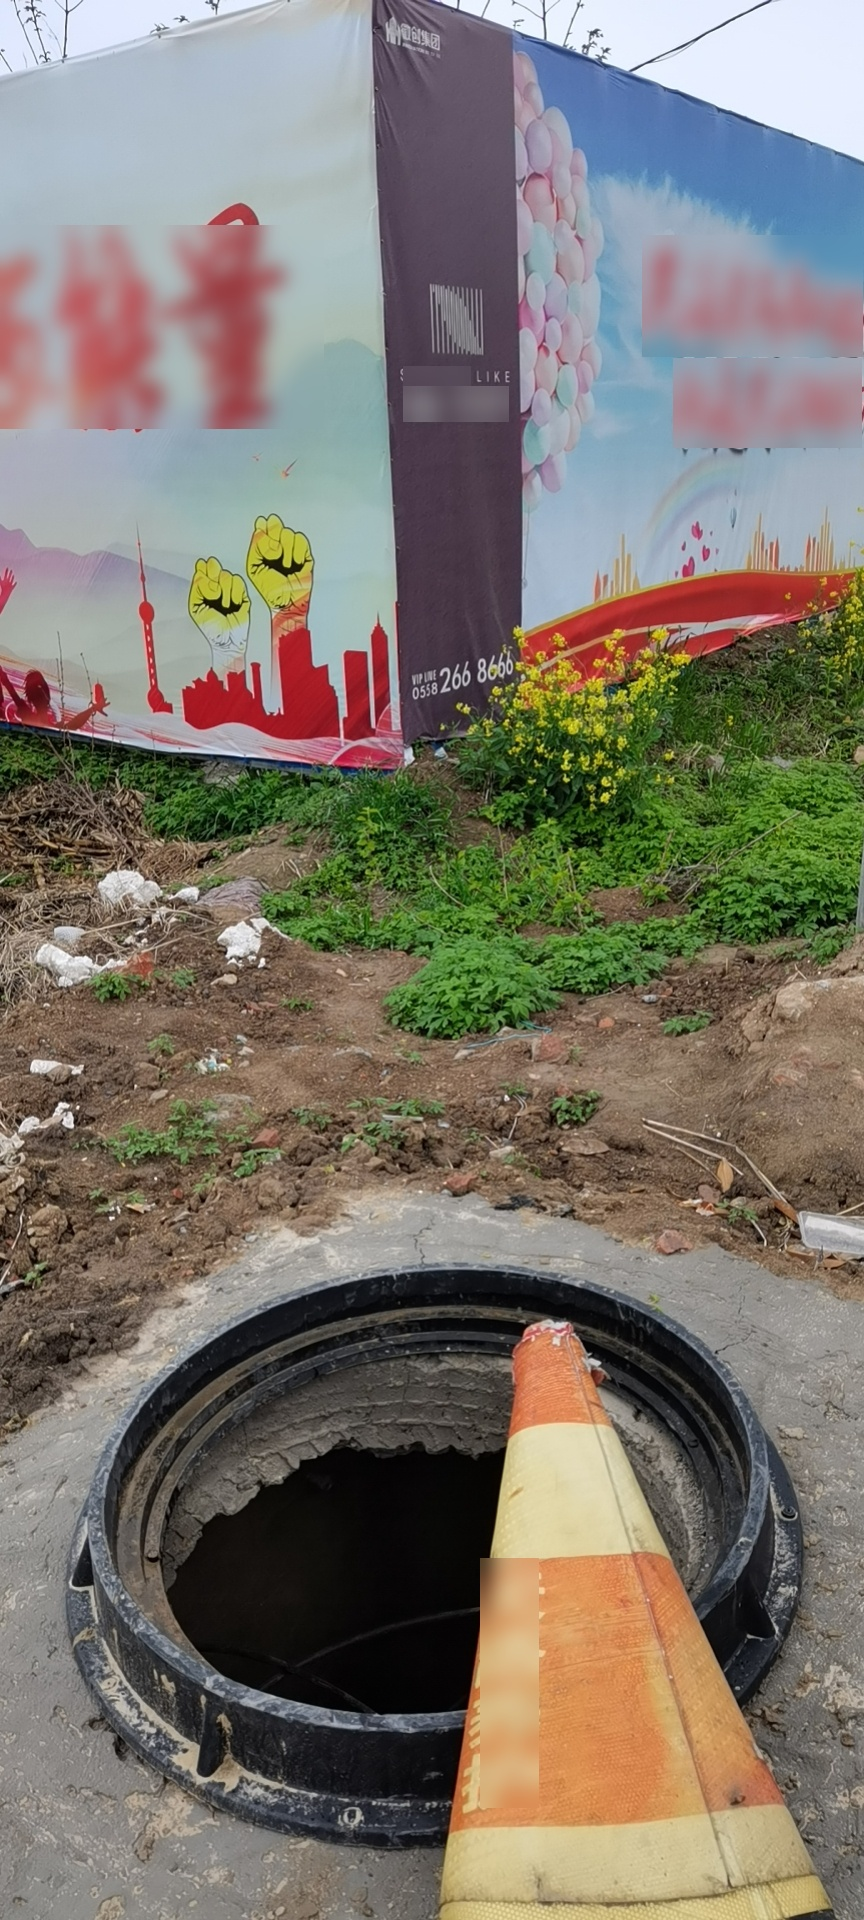lose: (72, 1260, 805, 1860)
